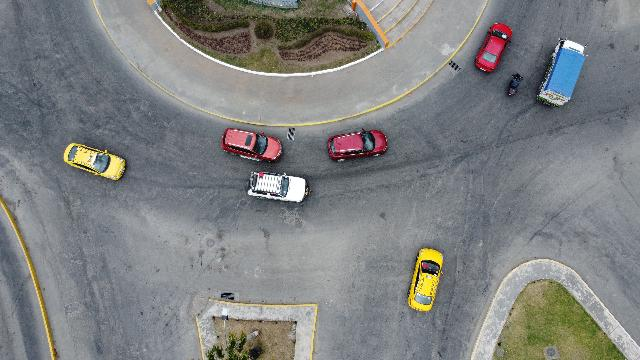Vehiculo: (407, 248, 443, 312), (64, 144, 126, 180), (222, 128, 282, 162), (327, 128, 387, 160), (474, 23, 512, 72), (248, 172, 310, 202)
